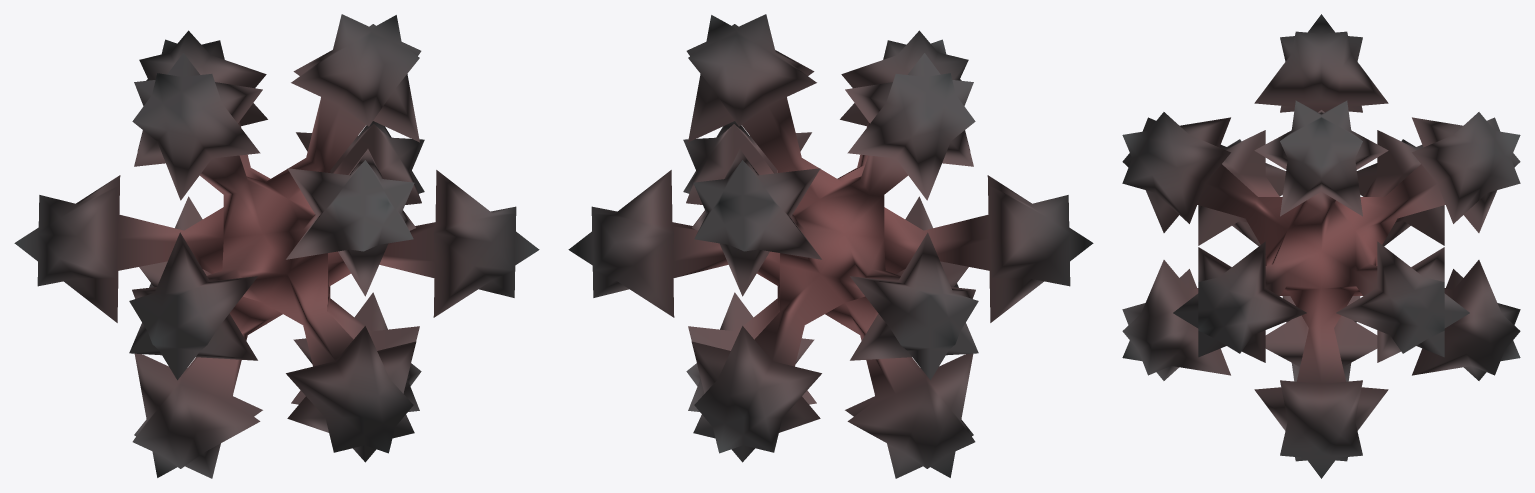
The model's file is zeometry-stars-spikes-star-cluster_v1.fbx.
3 renders of one model, left to right at view 1: azimuth 30°, elevation 25°; view 2: azimuth 150°, elevation 25°; view 3: azimuth 270°, elevation 25°, orthographic. The views are drawn at different scales.
Visible parts, largest first — view 1: Star Cluster; view 2: Star Cluster; view 3: Star Cluster.
Boxes of the visible parts, x1,y1,x2,y2 form: Star Cluster: (14,14,539,478); Star Cluster: (568,14,1093,478); Star Cluster: (1122,14,1520,478).
Size of the model in its own units: 0.5 by 0.5 by 0.5.
